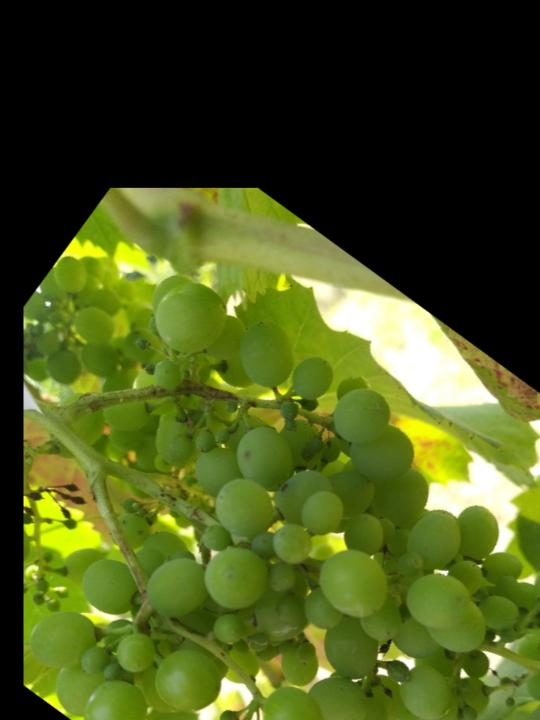grape: (0, 229, 540, 720)
